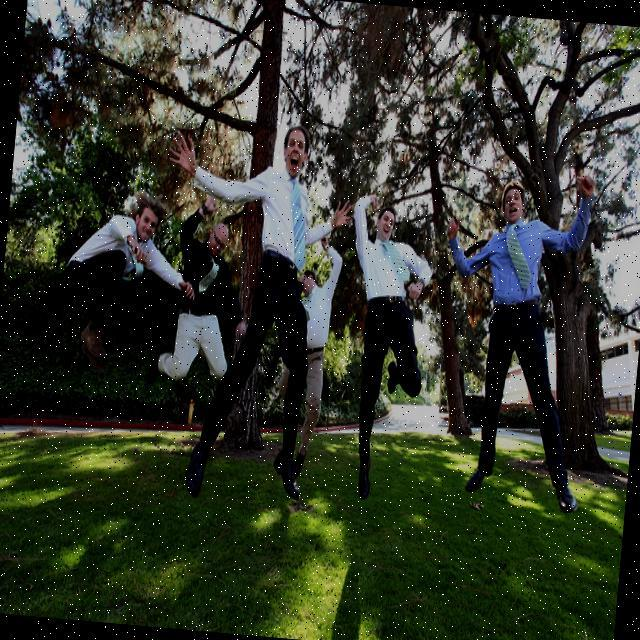fire_hydrant: (187, 396, 194, 424)
